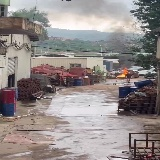fire: (117, 68, 128, 77)
